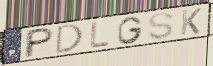D: (54, 23, 85, 56)
G: (117, 15, 145, 45)
K: (179, 7, 202, 37)
L: (89, 20, 111, 49)
P: (22, 27, 56, 60)
S: (146, 11, 175, 41)
